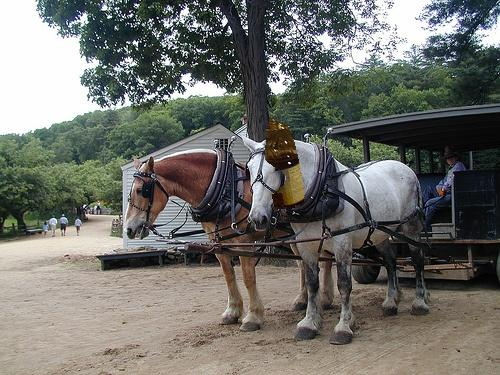tampered: (266, 119, 304, 209)
